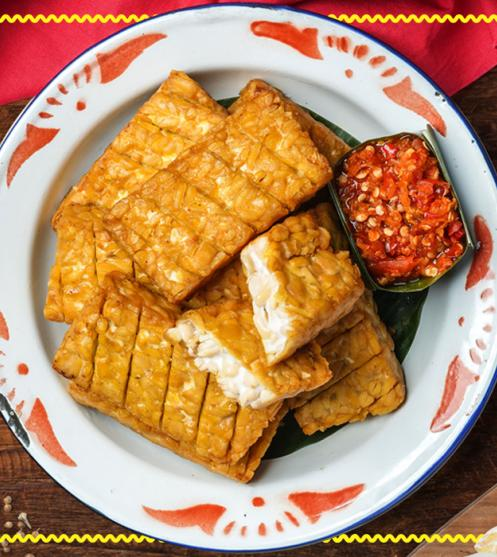buah_sayur_vitA: (359, 146, 435, 253)
kacang_legume: (105, 91, 330, 296), (56, 274, 280, 465), (55, 71, 229, 216), (241, 213, 365, 368), (288, 291, 405, 435)
